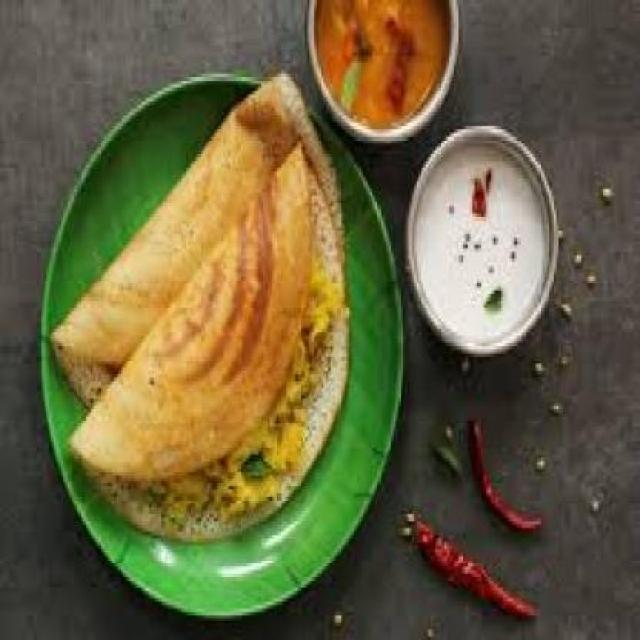dosa: (70, 143, 348, 540), (50, 73, 344, 410)
